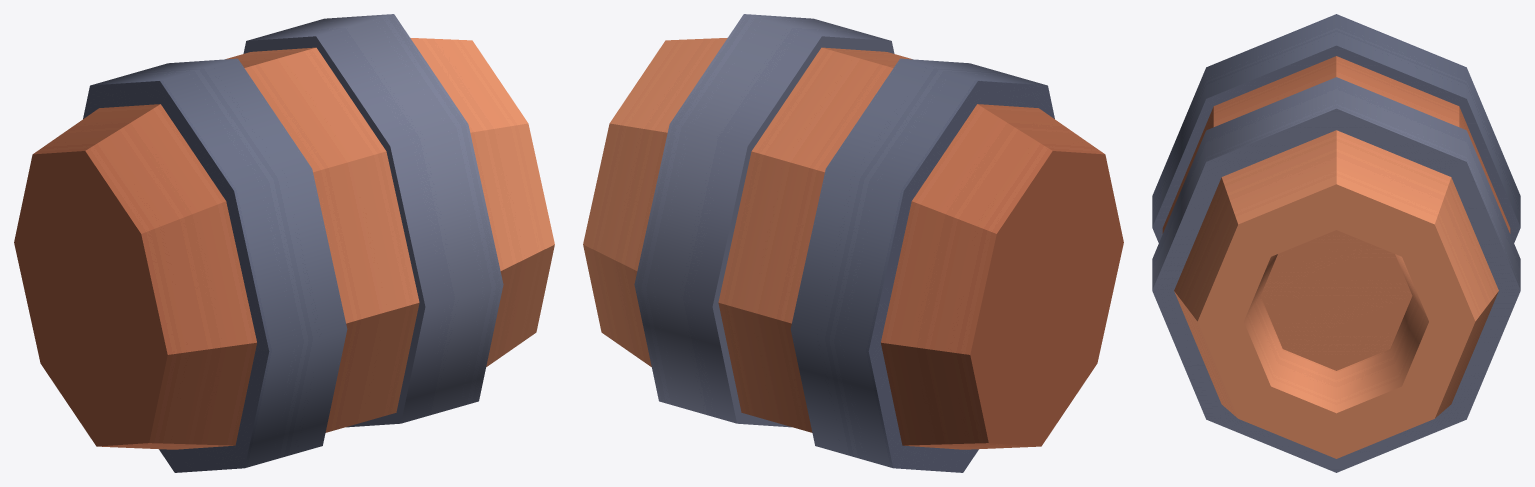
The model's file is barrel.001_lev2.glb.
3 views of the same model, side by side, from view 1: azimuth 30°, elevation 25°; view 2: azimuth 150°, elevation 25°; view 3: azimuth 270°, elevation 25° (orthographic). The views are drawn at different scales.
Parts seen in each view (by area): view 1: barrel.001_lev2; view 2: barrel.001_lev2; view 3: barrel.001_lev2.
Boxes of the visible parts, x1,y1,x2,y2 form: barrel.001_lev2: (14,14,554,472); barrel.001_lev2: (583,14,1123,472); barrel.001_lev2: (1152,14,1520,472).
Bounding box in the file's own units: 1.78 × 1.73 × 1.57.
1 material, 1 textured.
